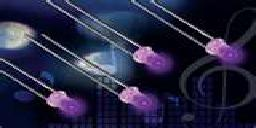LED: (61, 4, 171, 73), (1, 56, 84, 119), (96, 67, 159, 112), (183, 13, 238, 62)
